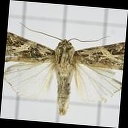Spodoptera litura: (5, 26, 123, 117)
